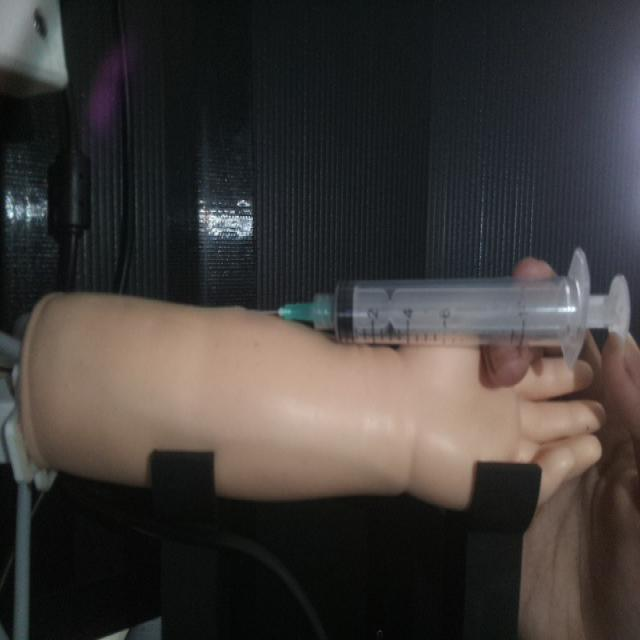Outside: (252, 246, 631, 374)
